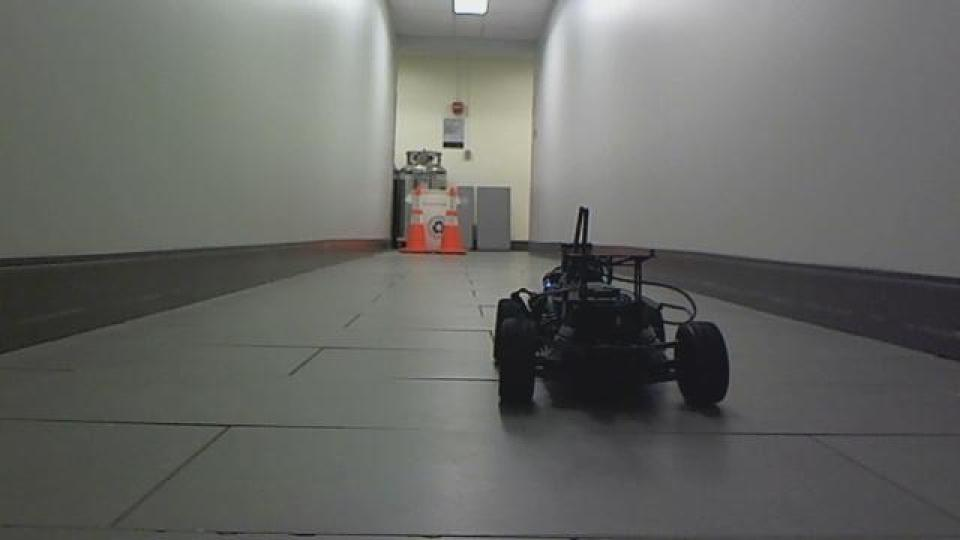car: (488, 204, 732, 414)
